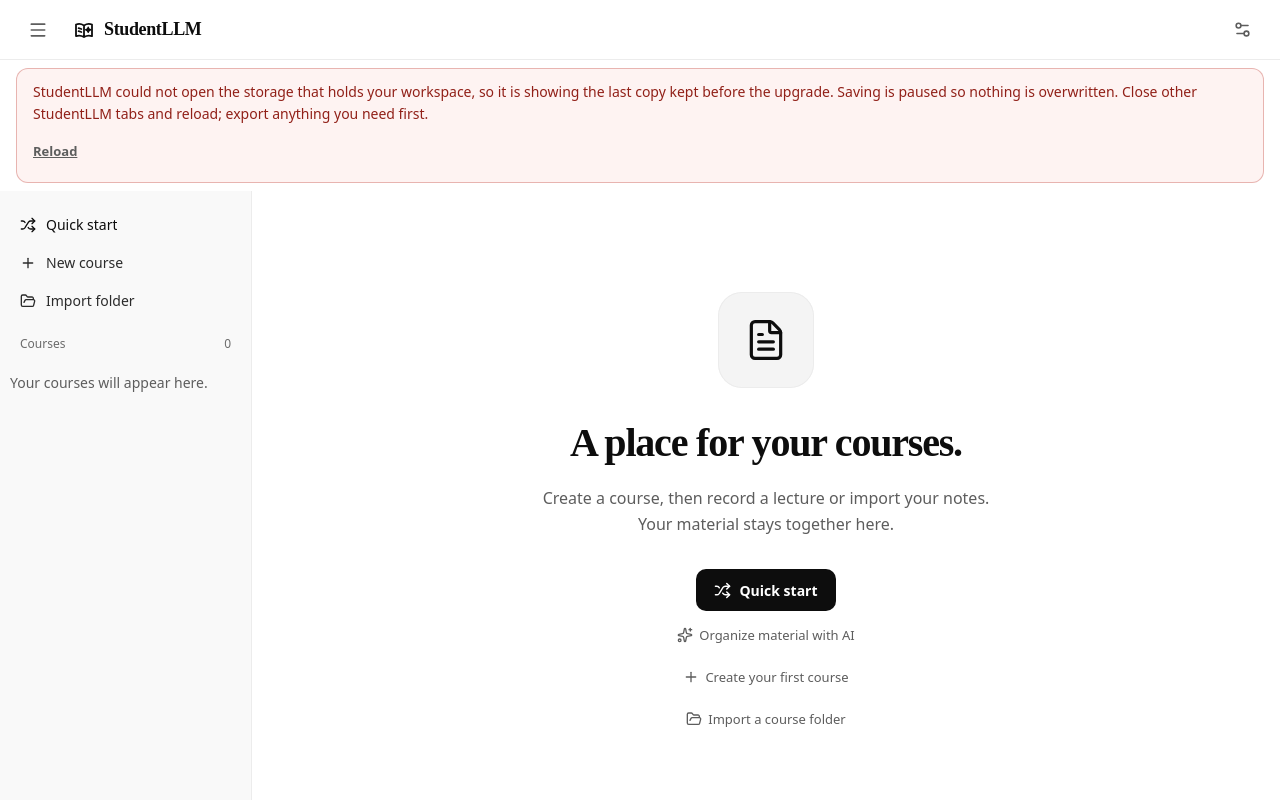
Test: StudentLLM workspace › refuses to save a remote service address in the packaged app
Click the button named "Settings" at (1242, 30), box [1222,10,1262,50]
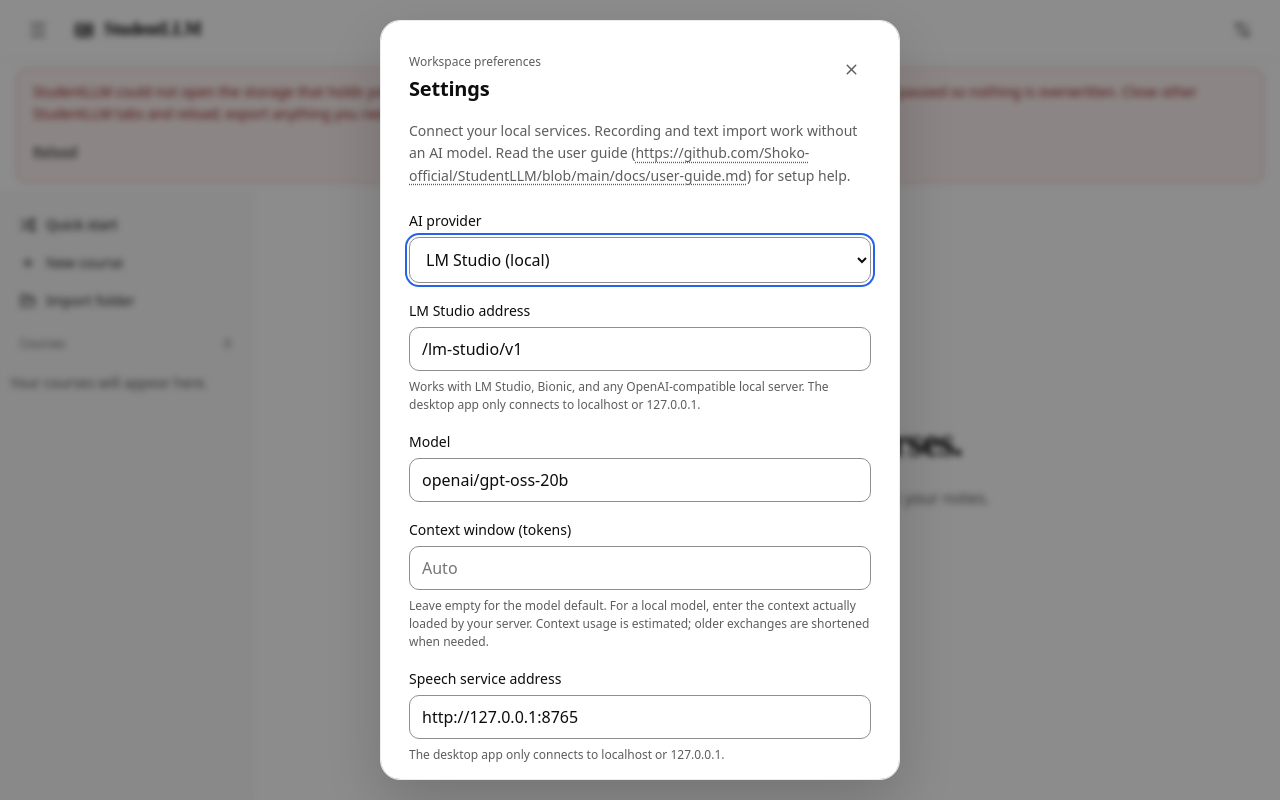
Check: the text "only connects to localhost or 127.0.0.1" is shown, box [409,378,829,413]
Type "https://speech.example.test" into the field labelled "Speech service address" at (640, 717), box [409,695,871,739]
(page scrolled)
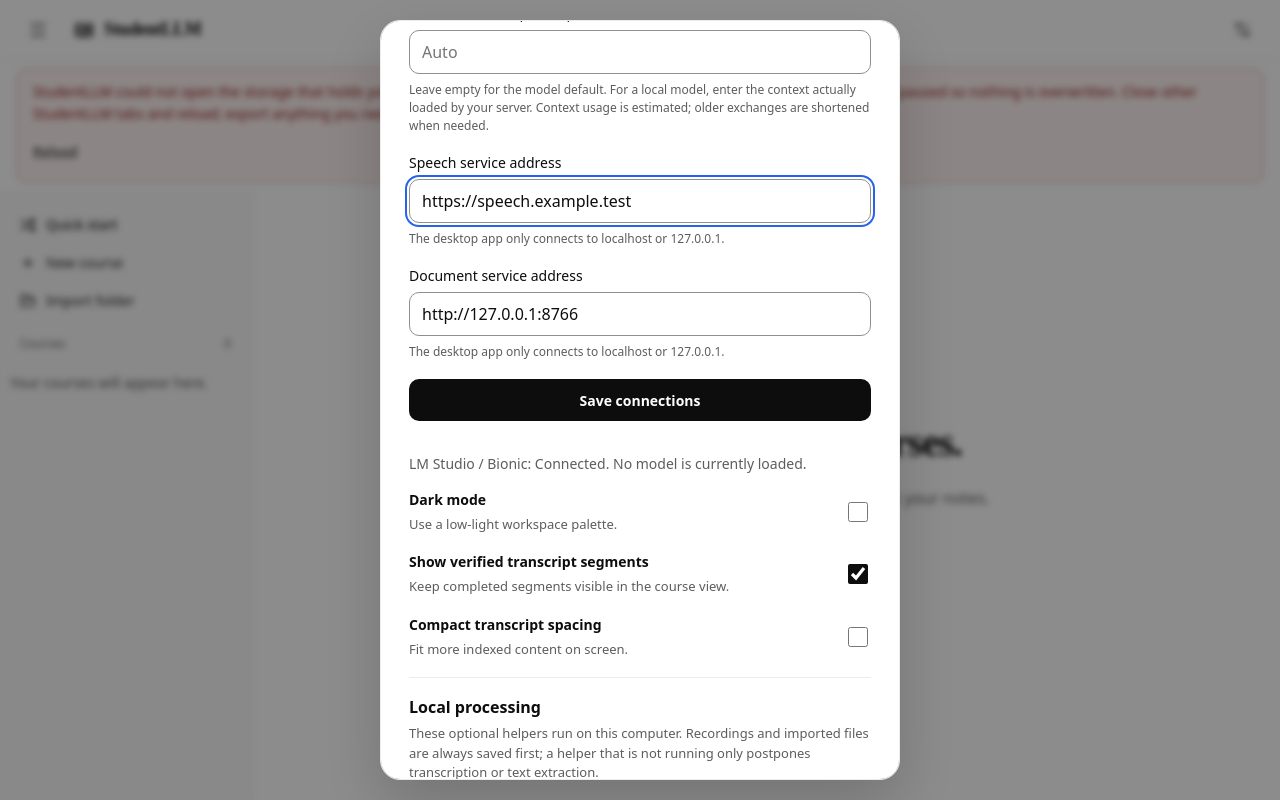
Click the button "Save connections" at (640, 400), box [409,379,871,421]
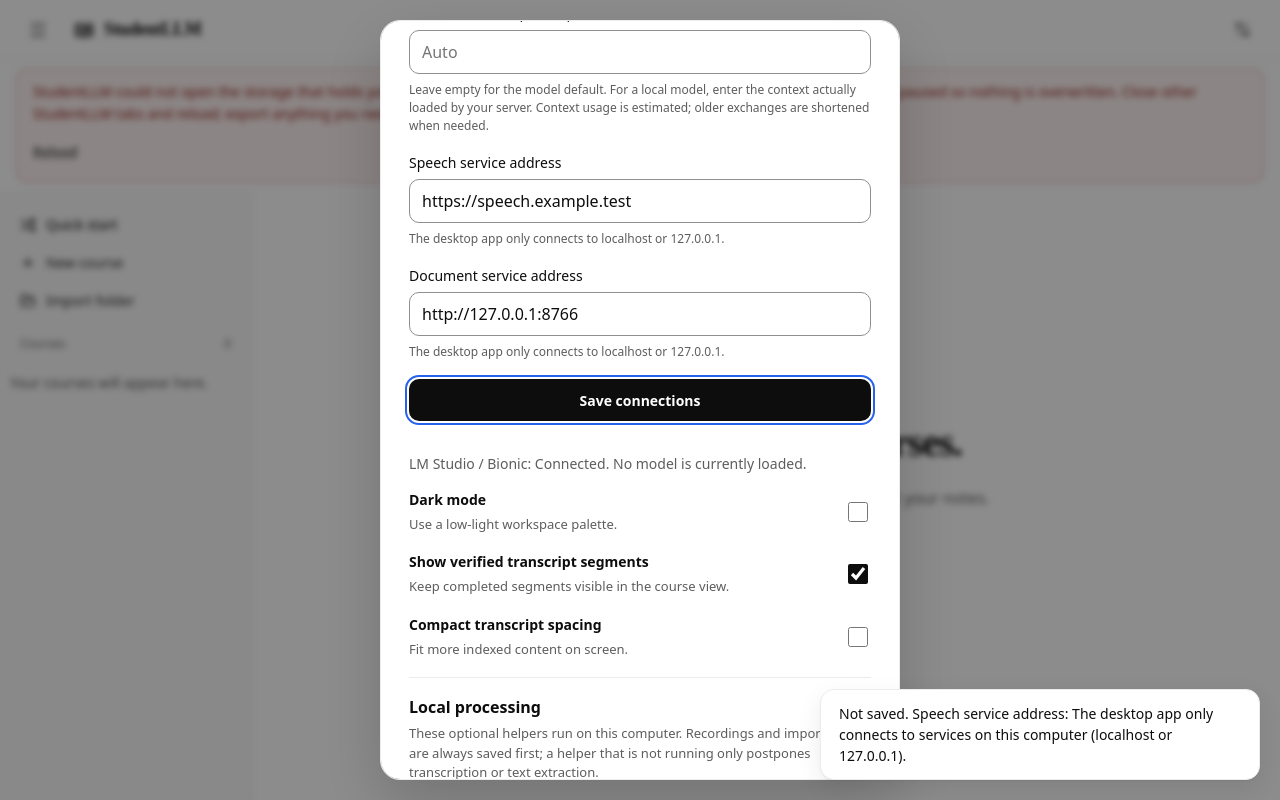
Check: the text "Not saved. Speech service address: The desktop app only connects" is shown, box [839,704,1213,765]
